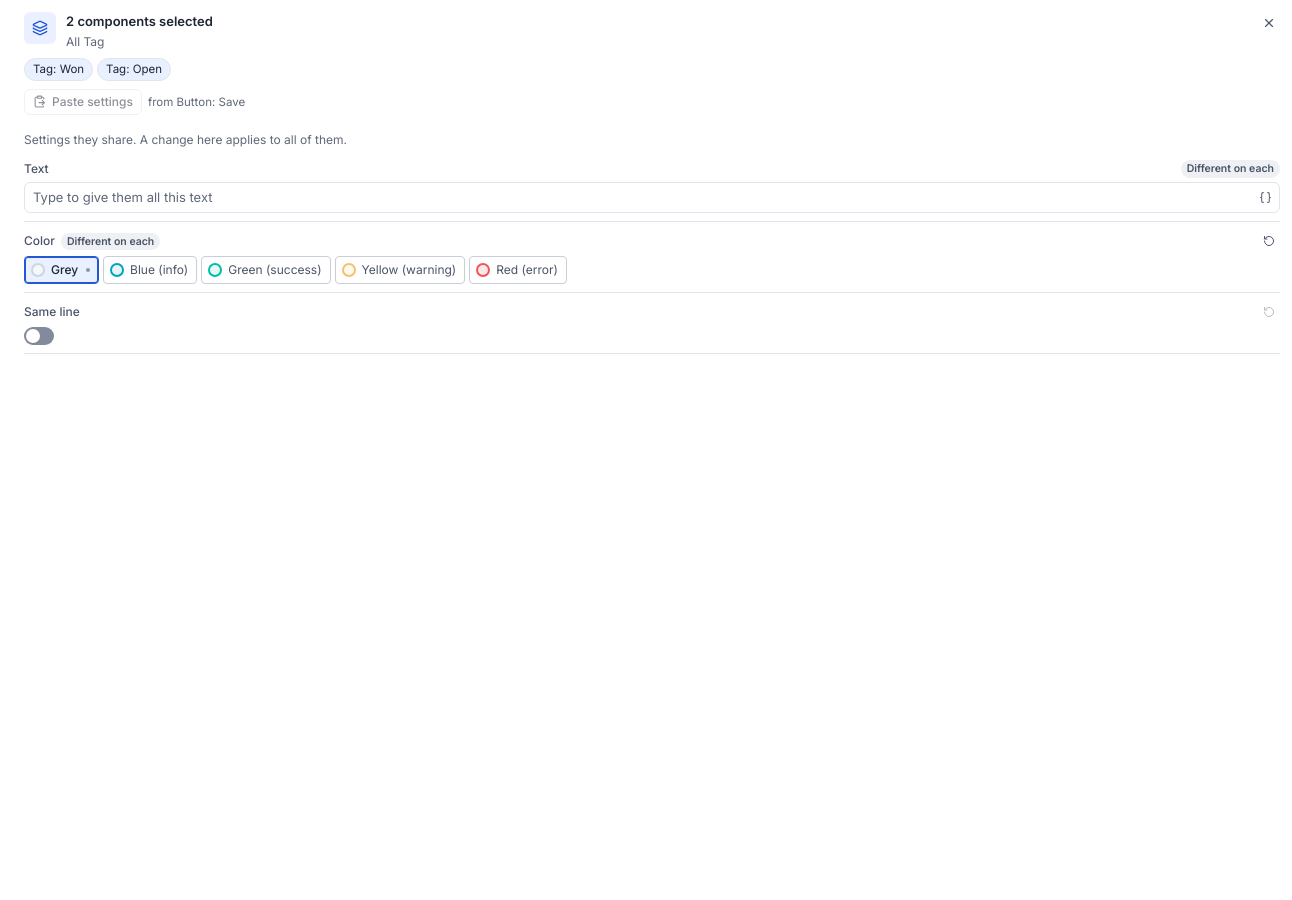
Test: the inspector with several components selected › switches to the multi-edit view, and back to one component
Expected: the text "2 components selected" is shown, [66,12,213,31]
Expected: the text "All Tag" is shown, [66,34,104,49]
Click the button named "Clear the selection". click: (1269, 23)
box: [1258,12,1280,34]
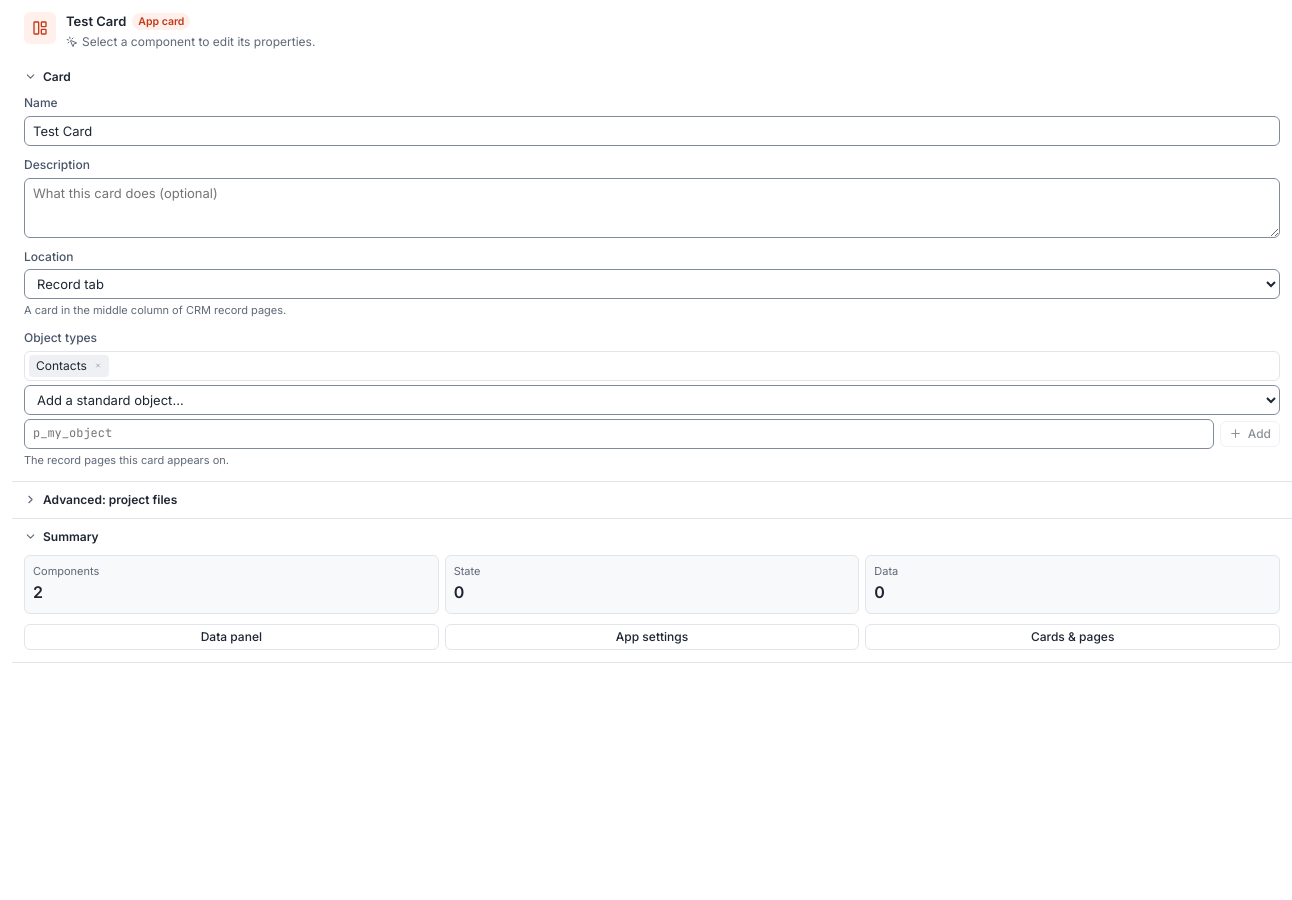
Now the text "2 components selected" is gone
